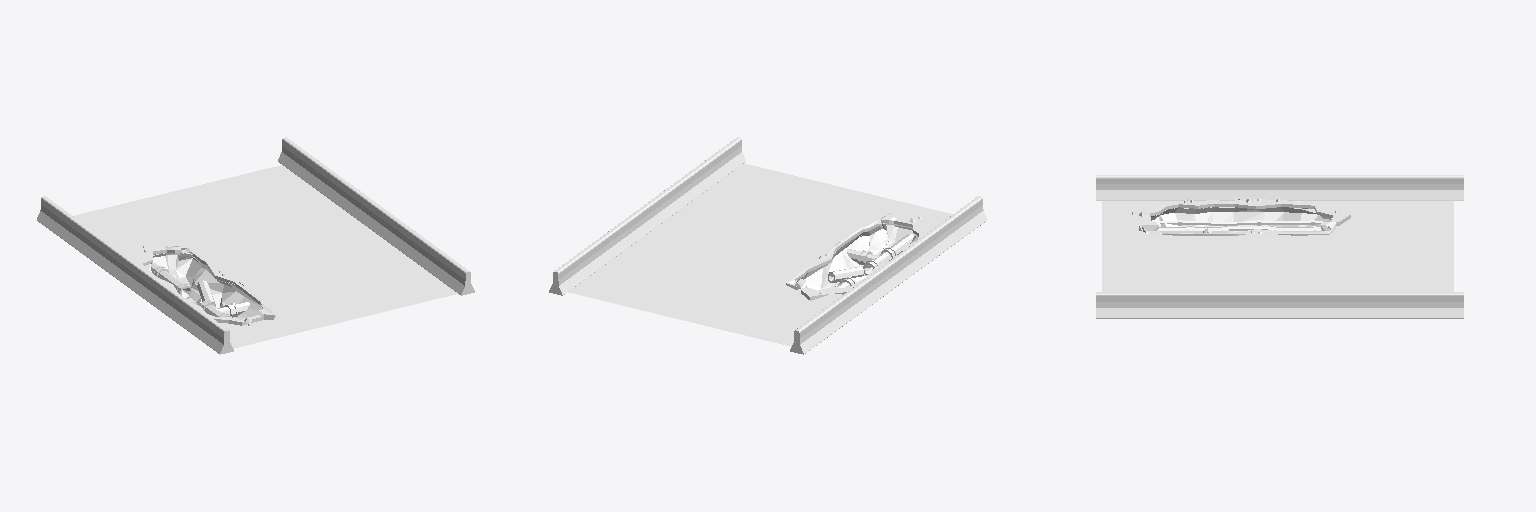
The model's file is construction_with_hole.obj.
3 views of the same model, side by side, from view 1: azimuth 30°, elevation 25°; view 2: azimuth 150°, elevation 25°; view 3: azimuth 270°, elevation 25° (orthographic).
Visible parts, largest first — view 1: SM_Env_Road_YellowLines_02_Mesh.001_SM_Env_Road_YellowLines, SM_Env_Sidewalk_Construction_01_Mesh.003, Cube_Cube.004, Cube_Cube.001, Cube_Cube.003, Cube_Cube.002; view 2: SM_Env_Road_YellowLines_02_Mesh.001_SM_Env_Road_YellowLines, SM_Env_Sidewalk_Construction_01_Mesh.003, Cube_Cube.003, Cube_Cube.002, Cube_Cube.001, Cube_Cube.004; view 3: SM_Env_Road_YellowLines_02_Mesh.001_SM_Env_Road_YellowLines, SM_Env_Sidewalk_Construction_01_Mesh.003, Cube_Cube.001, Cube_Cube.002, Cube_Cube.003, Cube_Cube.004.
Part boxes in pixels (x1,y1,x2,y2): SM_Env_Road_YellowLines_02_Mesh.001_SM_Env_Road_YellowLines: (74, 165, 457, 348); SM_Env_Sidewalk_Construction_01_Mesh.003: (136, 246, 275, 325); Cube_Cube.004: (127, 262, 233, 354); Cube_Cube.001: (368, 204, 474, 295); Cube_Cube.003: (37, 196, 136, 286); Cube_Cube.002: (278, 137, 378, 226); SM_Env_Road_YellowLines_02_Mesh.001_SM_Env_Road_YellowLines: (569, 163, 952, 346); SM_Env_Sidewalk_Construction_01_Mesh.003: (786, 213, 924, 300); Cube_Cube.003: (790, 262, 895, 354); Cube_Cube.002: (549, 204, 652, 295); Cube_Cube.001: (646, 137, 745, 228); Cube_Cube.004: (887, 196, 986, 287); SM_Env_Road_YellowLines_02_Mesh.001_SM_Env_Road_YellowLines: (1102, 201, 1453, 291); SM_Env_Sidewalk_Construction_01_Mesh.003: (1132, 198, 1350, 235); Cube_Cube.001: (1096, 292, 1282, 318); Cube_Cube.002: (1277, 292, 1463, 318); Cube_Cube.003: (1277, 175, 1463, 200); Cube_Cube.004: (1096, 175, 1282, 200).
Size of the model in its own units: 0.0837 by 0.0137 by 0.1041.